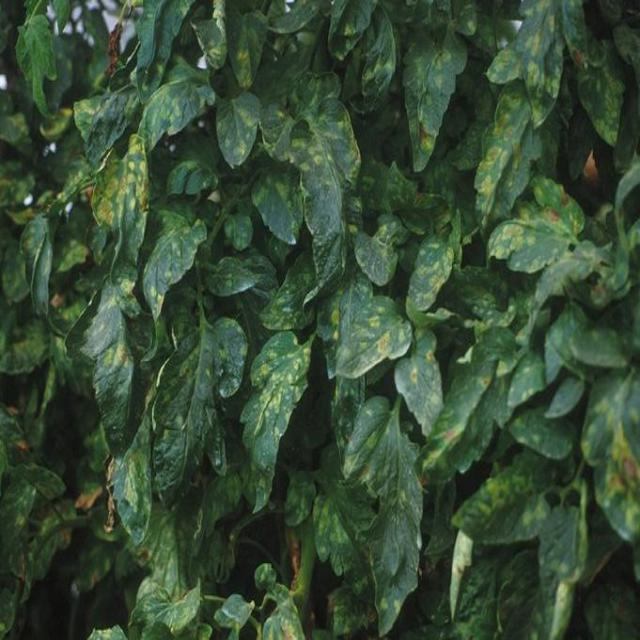Leaf_Mold: (486, 2, 587, 128), (480, 177, 586, 268), (472, 87, 531, 228), (268, 95, 362, 183), (586, 399, 640, 538), (247, 334, 312, 442), (451, 474, 549, 540), (1, 164, 41, 305), (95, 136, 151, 233), (131, 61, 196, 134), (347, 300, 410, 366), (585, 54, 623, 146), (412, 238, 454, 314), (420, 413, 466, 478), (116, 446, 153, 519), (308, 492, 353, 550), (407, 45, 450, 101), (138, 260, 170, 319), (477, 354, 515, 401), (98, 273, 139, 315), (71, 95, 110, 139), (262, 601, 305, 640), (408, 334, 437, 389), (326, 15, 358, 61), (51, 234, 86, 275), (361, 48, 394, 89), (231, 39, 256, 93), (233, 105, 255, 161), (406, 117, 435, 153), (98, 342, 129, 373)
